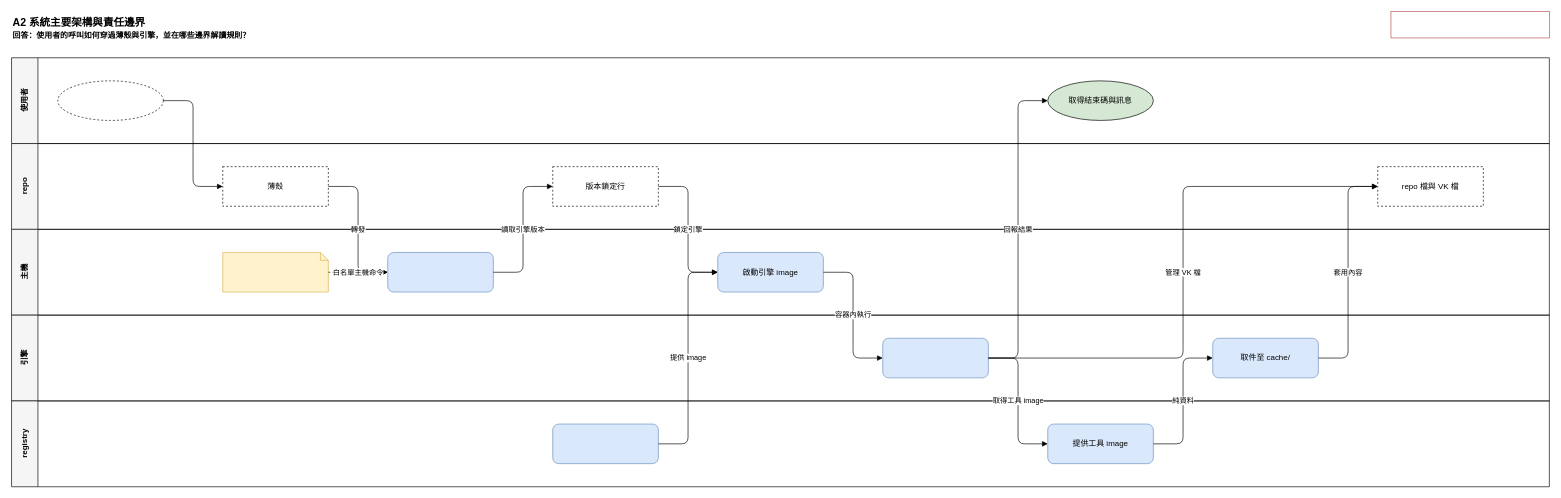
Image size: 1561x498. Some labels were removed from this diagram. The centre of each missing label's shape, as x and y in pixels:
呼叫 VK recipe: the point at 110,100
啟動器轉發呼叫: the point at 440,272
提供引擎 image: the point at 605,443
服務不變量：5, 6, 7, 9: the point at 1469,24
薄殼只啟動與轉發: the point at 275,272
解讀產品規則: the point at 935,358
